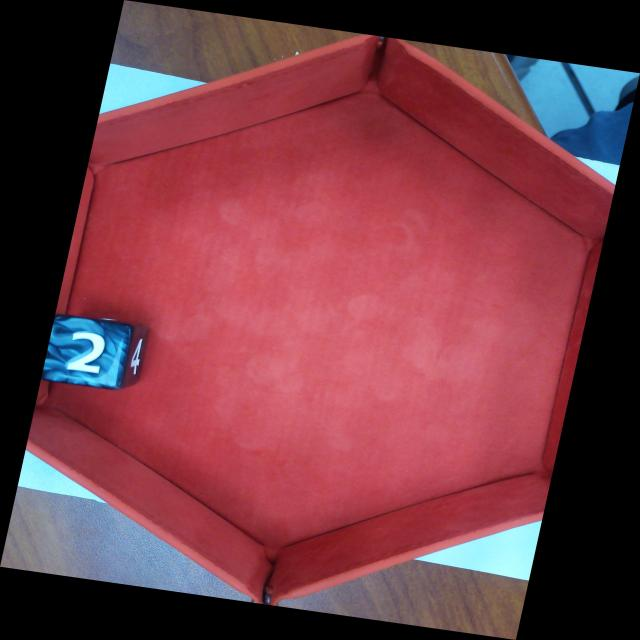dice: (46, 316, 127, 383)
